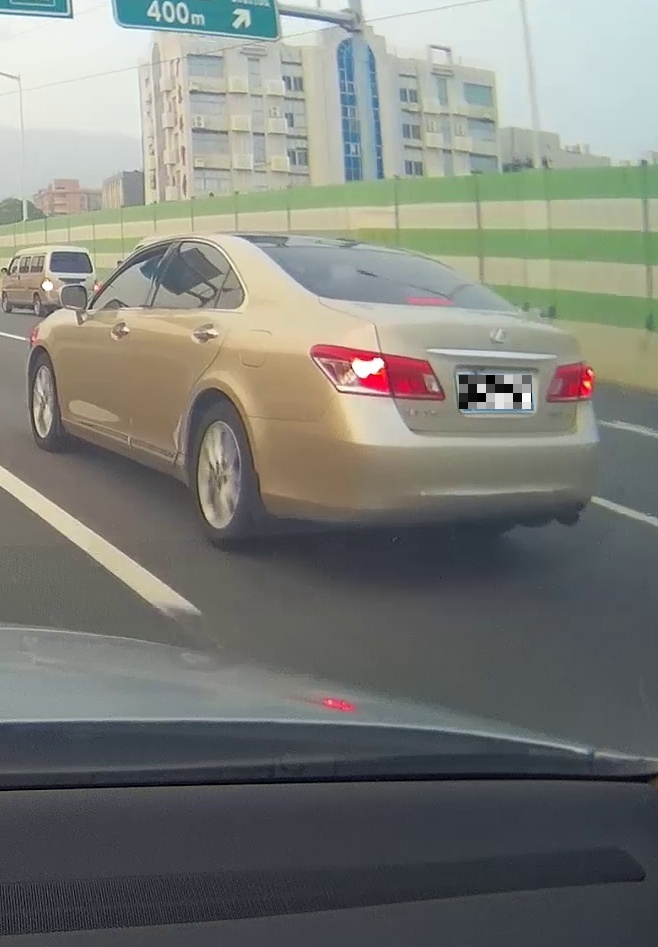L_light: (310, 344, 445, 400)
R_light: (544, 359, 596, 403)
T_light: (405, 296, 454, 305)
day-brake: (247, 231, 600, 546)
plate_1: (459, 375, 532, 409)
